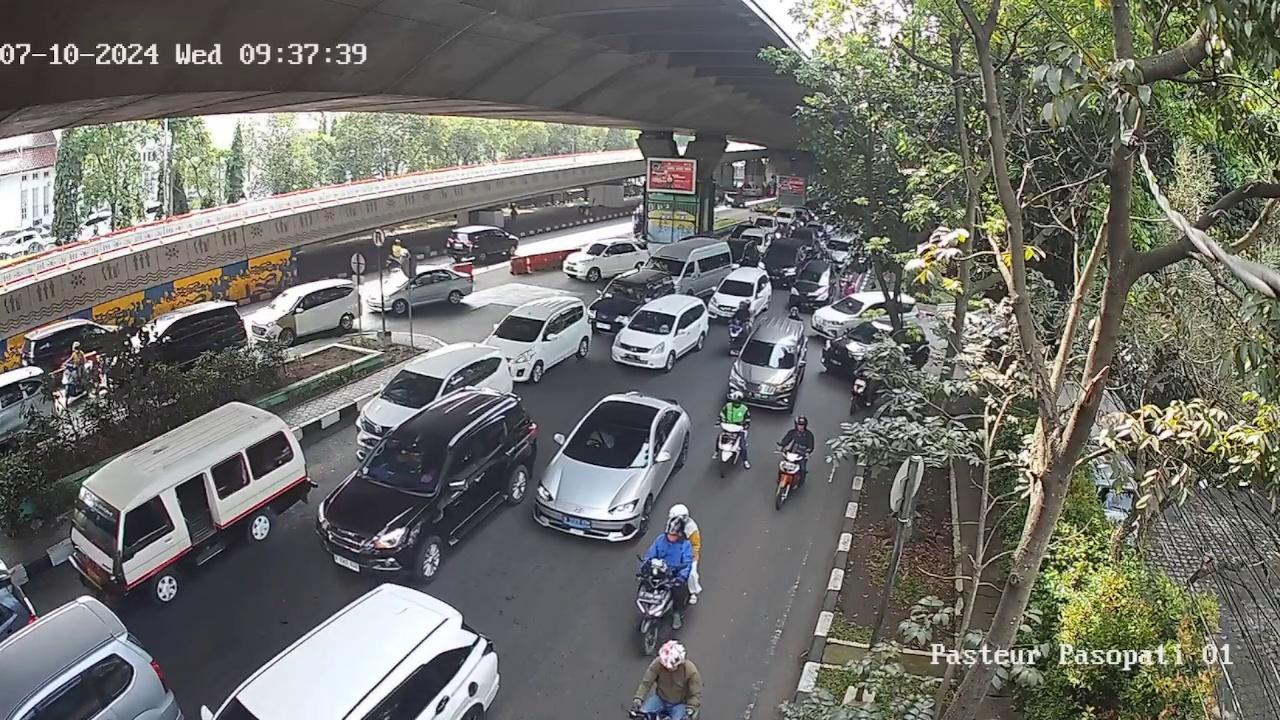pakai: (584, 423, 617, 458)
windshield: (362, 436, 449, 498), (566, 419, 654, 472), (68, 486, 124, 553), (387, 368, 444, 407), (735, 339, 802, 370), (491, 315, 544, 342), (629, 308, 676, 337), (603, 279, 646, 299), (718, 280, 757, 296), (798, 268, 829, 285)
